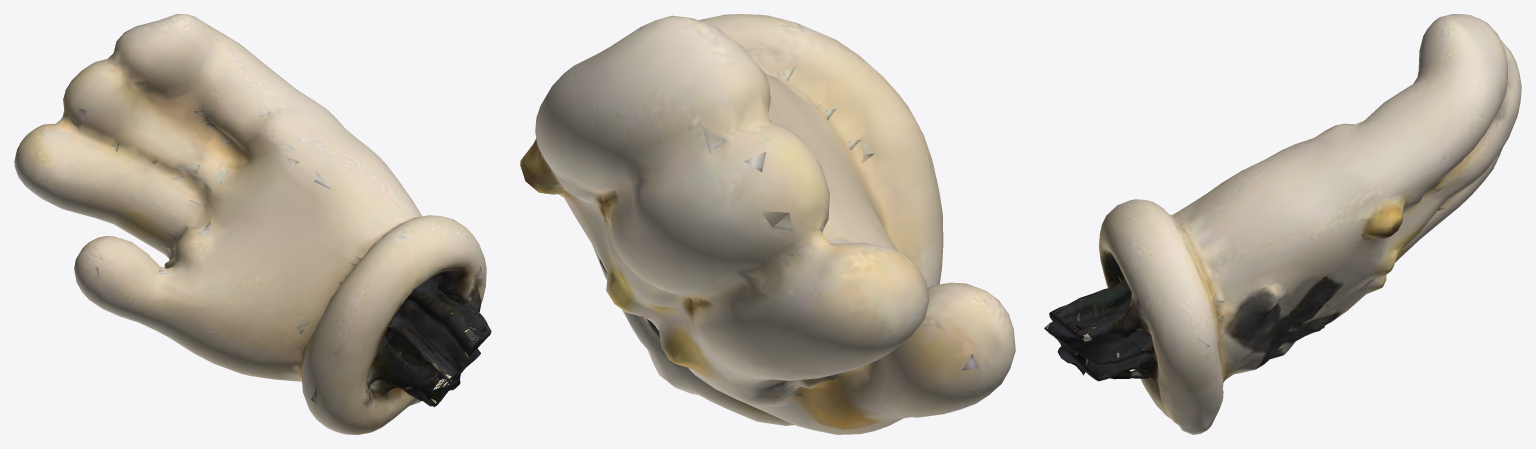
The model's file is fp_arm_inky.glb.
3 views of the same model, side by side, from view 1: azimuth 30°, elevation 25°; view 2: azimuth 150°, elevation 25°; view 3: azimuth 270°, elevation 25° (orthographic). The views are drawn at different scales.
Parts seen in each view (by area): view 1: fp_arm; view 2: fp_arm; view 3: fp_arm.
Boxes of the visible parts, left/top/right/bottom form: fp_arm: left=14, top=14, right=491, bottom=434; fp_arm: left=520, top=14, right=1015, bottom=434; fp_arm: left=1044, top=14, right=1521, bottom=434.
Size of the model in its own units: 0.2157 by 0.2127 by 0.2531.
2 materials, 1 textured.
